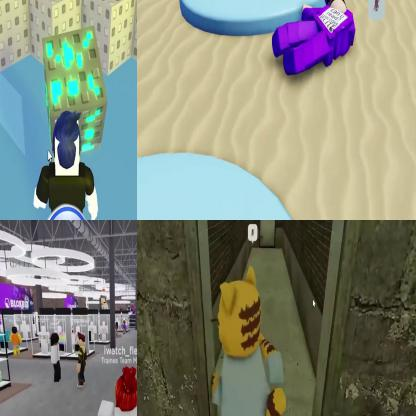Roblox-Avatar: (212, 265, 288, 416), (34, 110, 100, 220), (273, 1, 358, 77), (96, 366, 137, 416), (52, 333, 62, 384), (78, 332, 87, 388), (11, 327, 23, 357), (123, 321, 128, 337), (116, 322, 120, 338)
